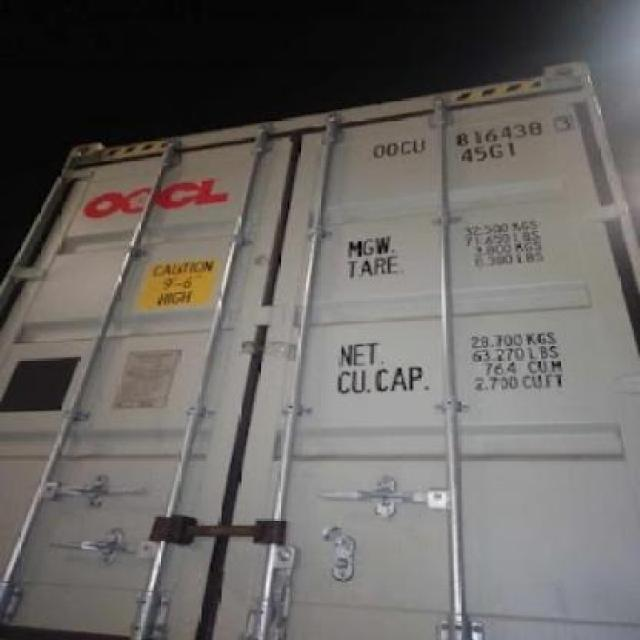ISO: (458, 142, 532, 165)
container_number: (370, 116, 587, 158)
